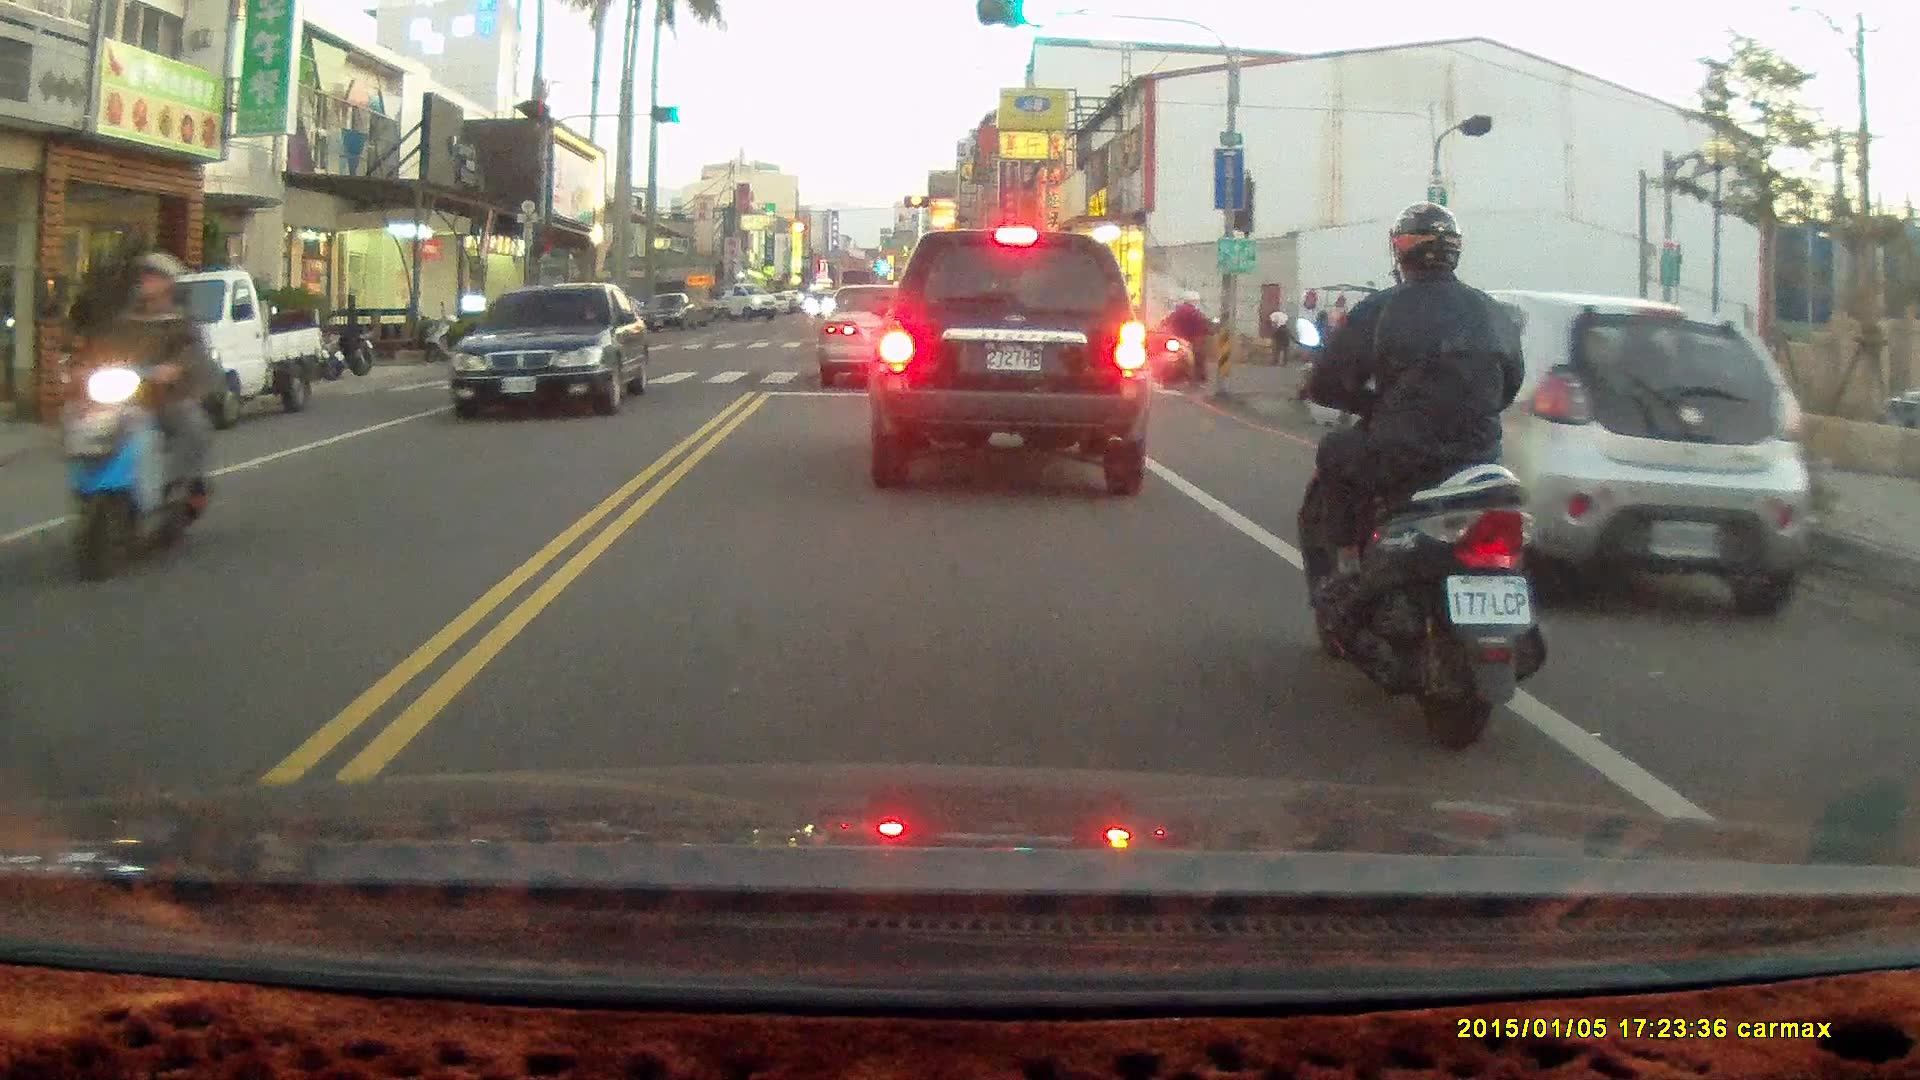pedestrian: (1262, 303, 1291, 368)
rider: (1278, 199, 1549, 750), (60, 248, 211, 588), (1154, 288, 1216, 390)
vehicle: (1373, 292, 1826, 617), (866, 224, 1153, 496), (104, 268, 327, 424), (454, 279, 652, 416), (817, 281, 937, 389)
